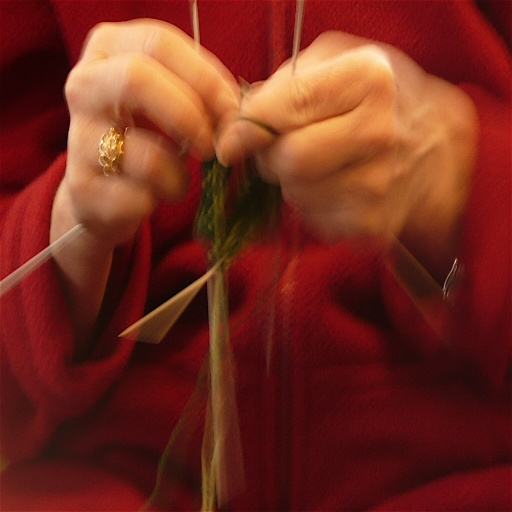hand: (188, 32, 463, 259), (61, 14, 247, 246)
